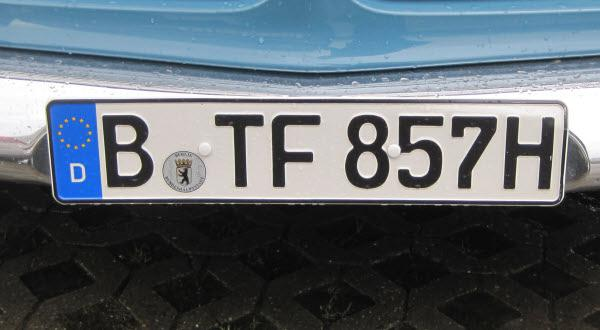5: (395, 111, 447, 190)
7: (448, 111, 499, 193)
8: (341, 111, 392, 191)
B: (101, 111, 156, 190)
F: (268, 108, 325, 190)
H: (501, 112, 556, 192)
T: (212, 108, 265, 190)
